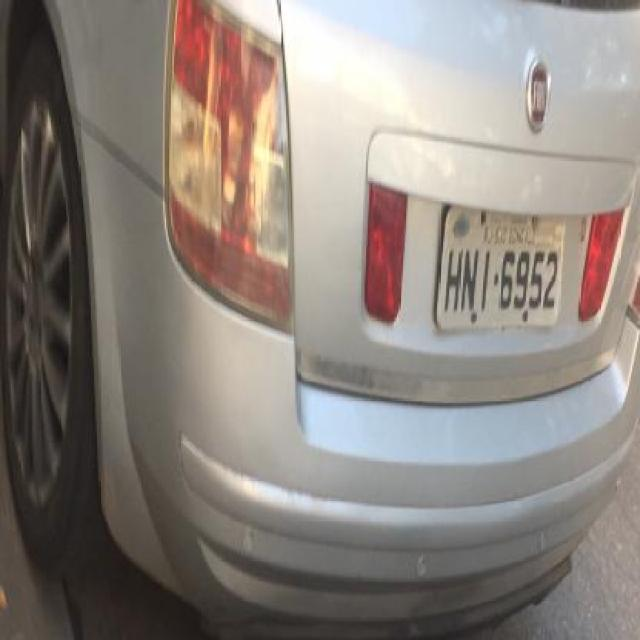old_plate: (426, 202, 574, 335)
